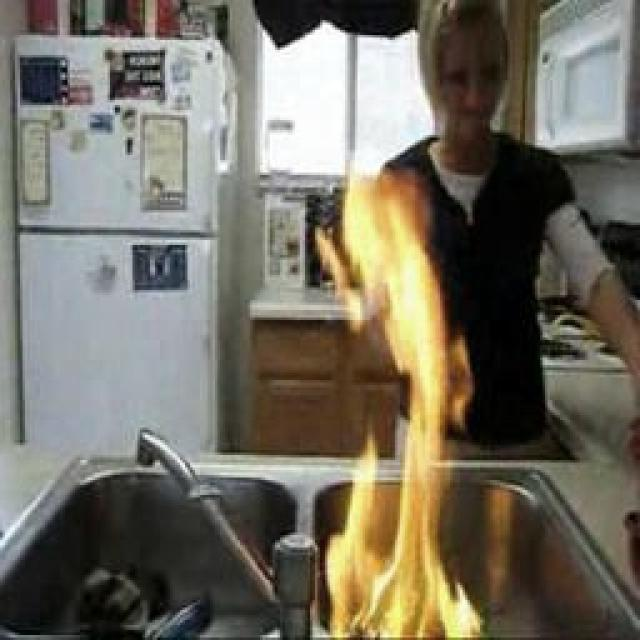Fire: (324, 171, 477, 640)
